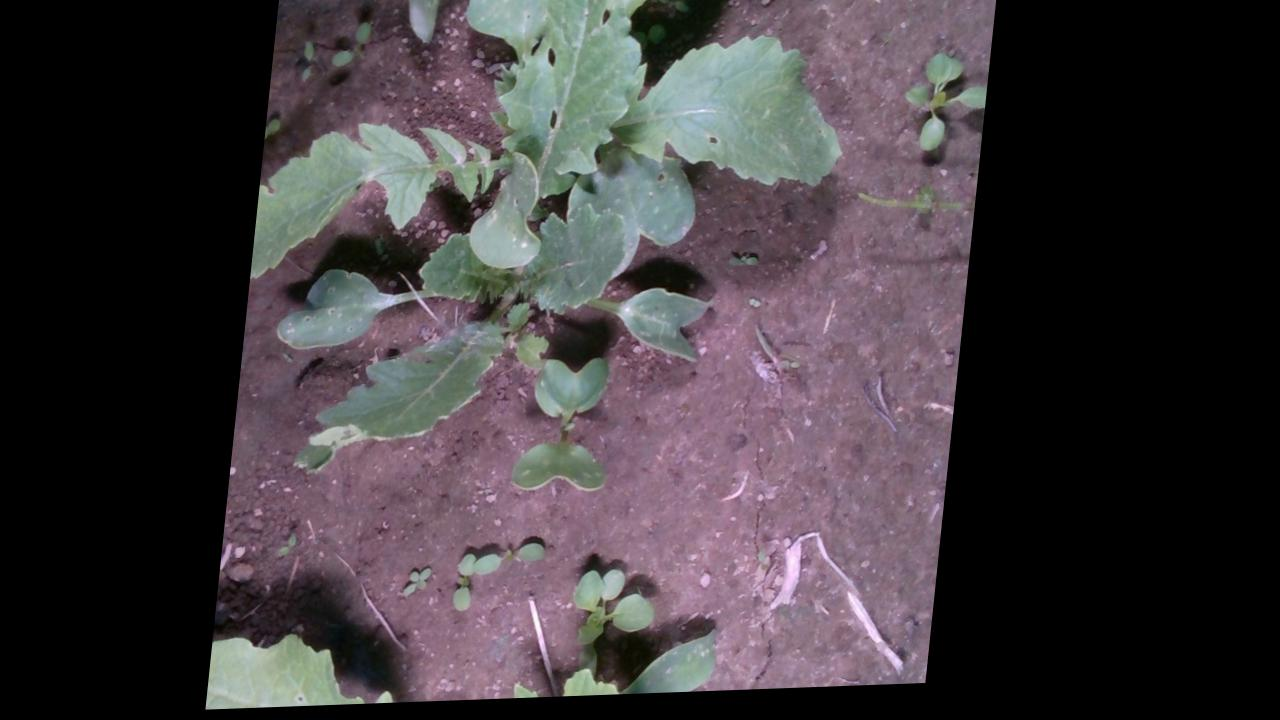weed: (328, 23, 373, 71)
